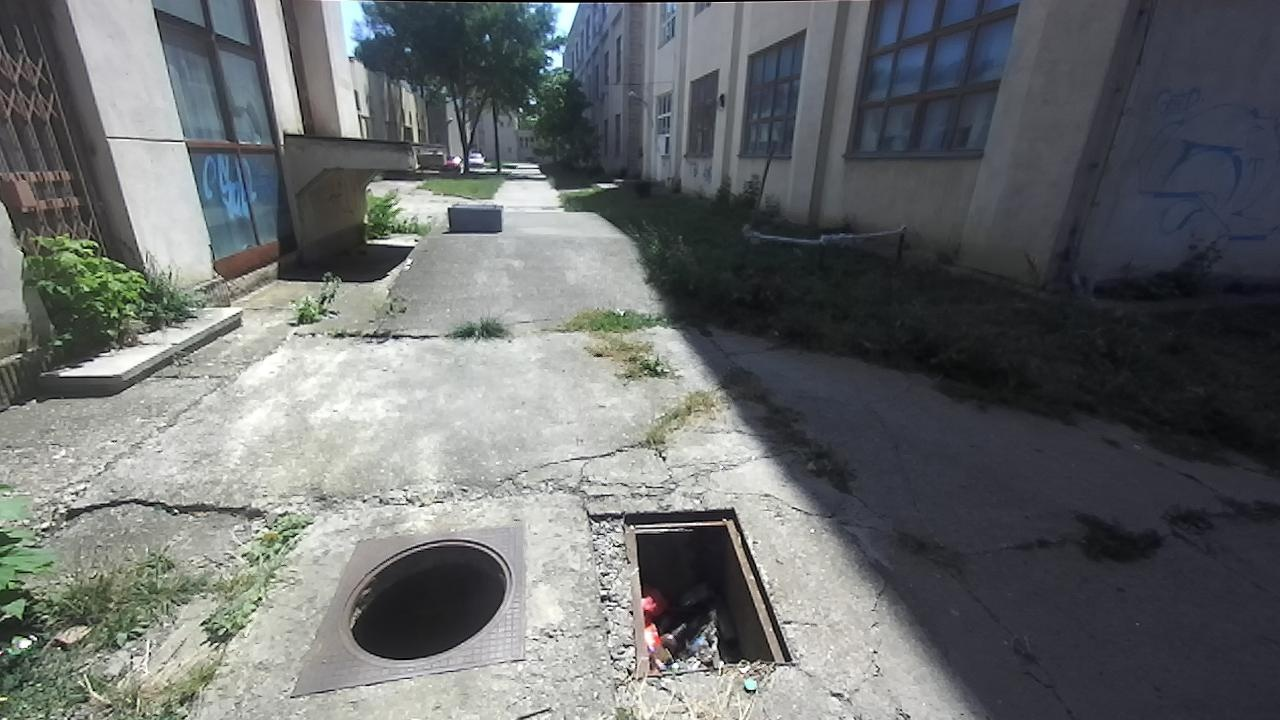drain: (580, 505, 796, 663), (346, 534, 510, 659)
